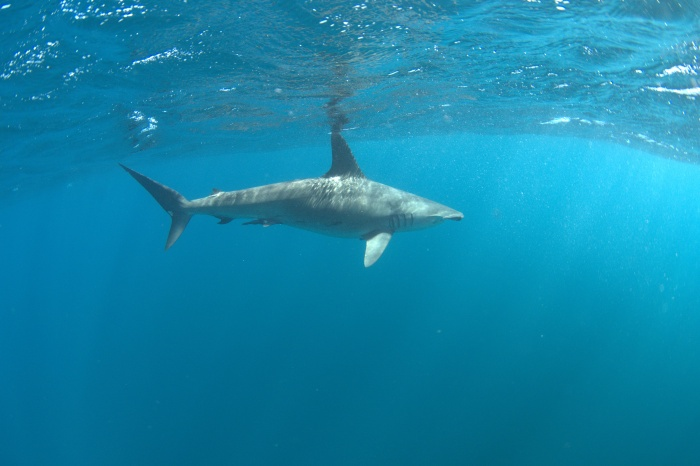Hammer: (100, 112, 504, 305)
